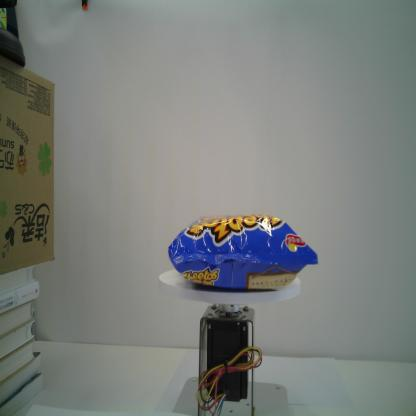Puffed Food: (168, 214, 318, 291)
